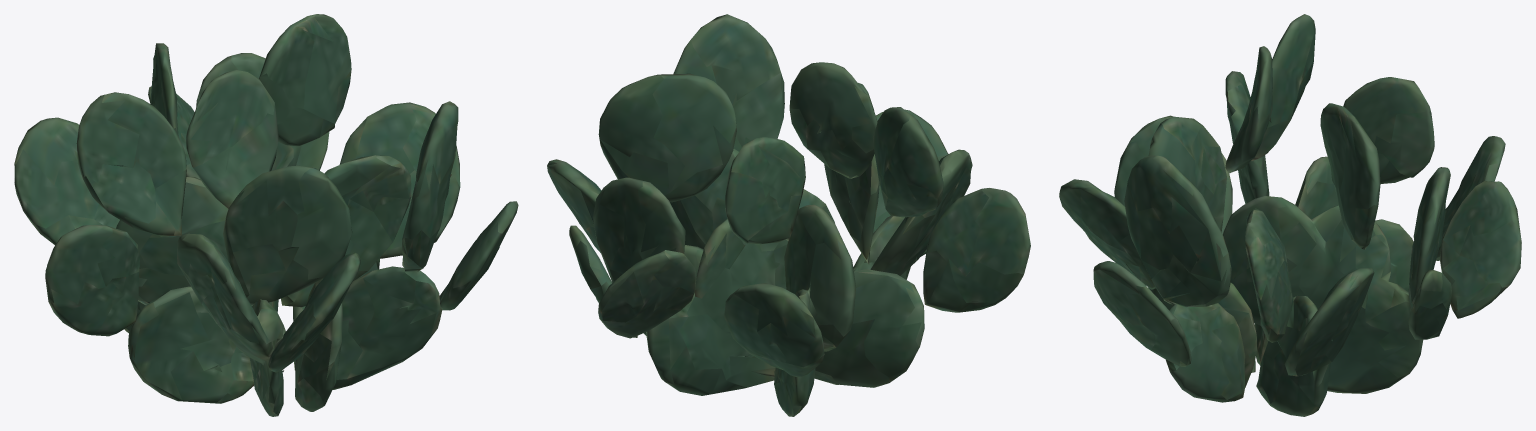
File: prickly_pear.glb
3 renders of one model, left to right at view 1: azimuth 30°, elevation 25°; view 2: azimuth 150°, elevation 25°; view 3: azimuth 270°, elevation 25°, orthographic. The views are drawn at different scales.
Visible parts, largest first — view 1: Mesh_0; view 2: Mesh_0; view 3: Mesh_0.
Boxes of the visible parts, <box> form: Mesh_0: <box>14,14,518,416</box>; Mesh_0: <box>547,14,1030,416</box>; Mesh_0: <box>1059,14,1521,416</box>.
Size of the model in its own units: 1.88 by 1.34 by 1.75.
1 material, 1 textured.
